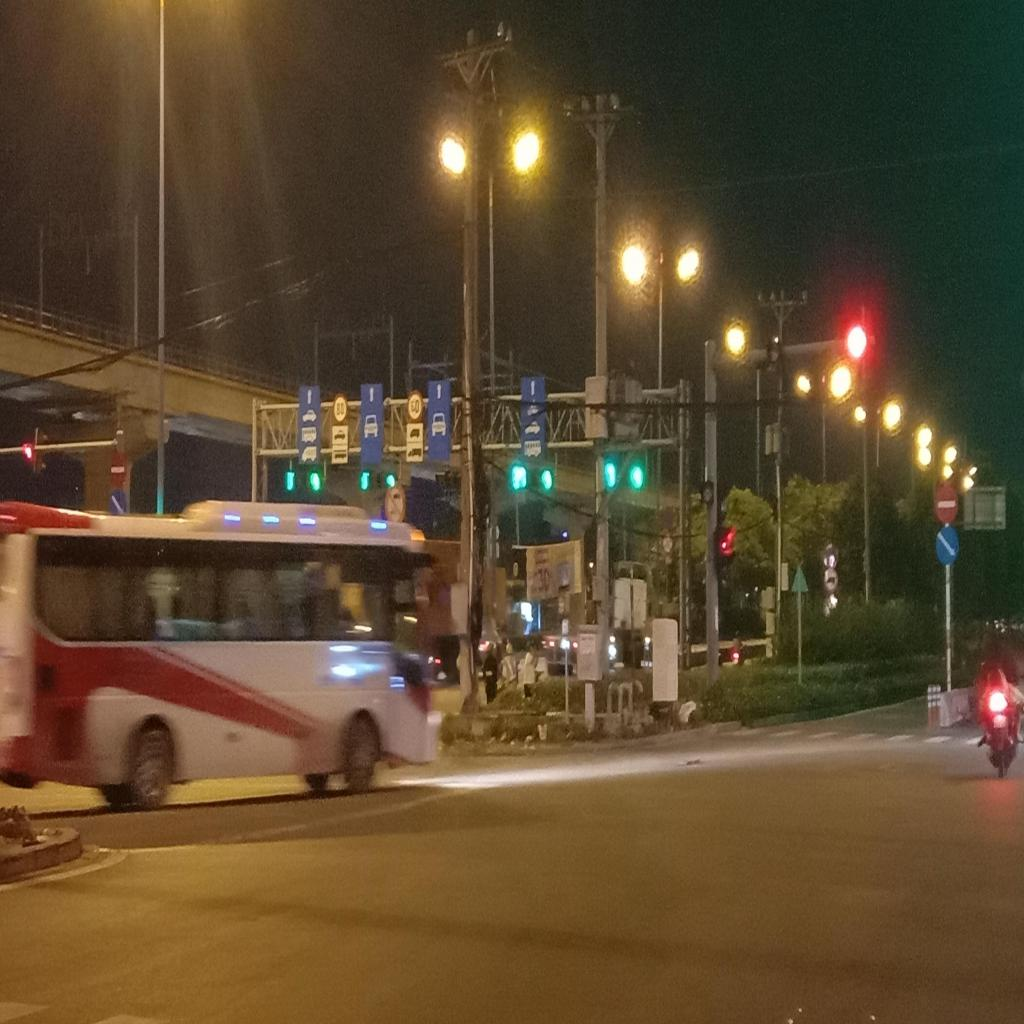cam_o_to: (428, 382, 450, 458), (361, 386, 381, 464)
cam_o_to_tai: (824, 566, 838, 595)
cam_xe_2_banh_va_xe_3_banh_co_dong_co: (384, 484, 405, 523)
cam_xe_di_nguoc_chieu: (934, 484, 959, 526), (109, 452, 126, 488)
huong_phai_di_vuot_chuong_ngai_vat_phai: (936, 527, 960, 565), (110, 490, 125, 515)
khac: (522, 378, 546, 456), (300, 386, 320, 464), (332, 444, 349, 463), (407, 422, 423, 442), (406, 443, 423, 461), (332, 428, 348, 444)
toc_do_toi_da_60: (407, 390, 424, 420)
toc_do_toi_da_80: (332, 392, 348, 424)
